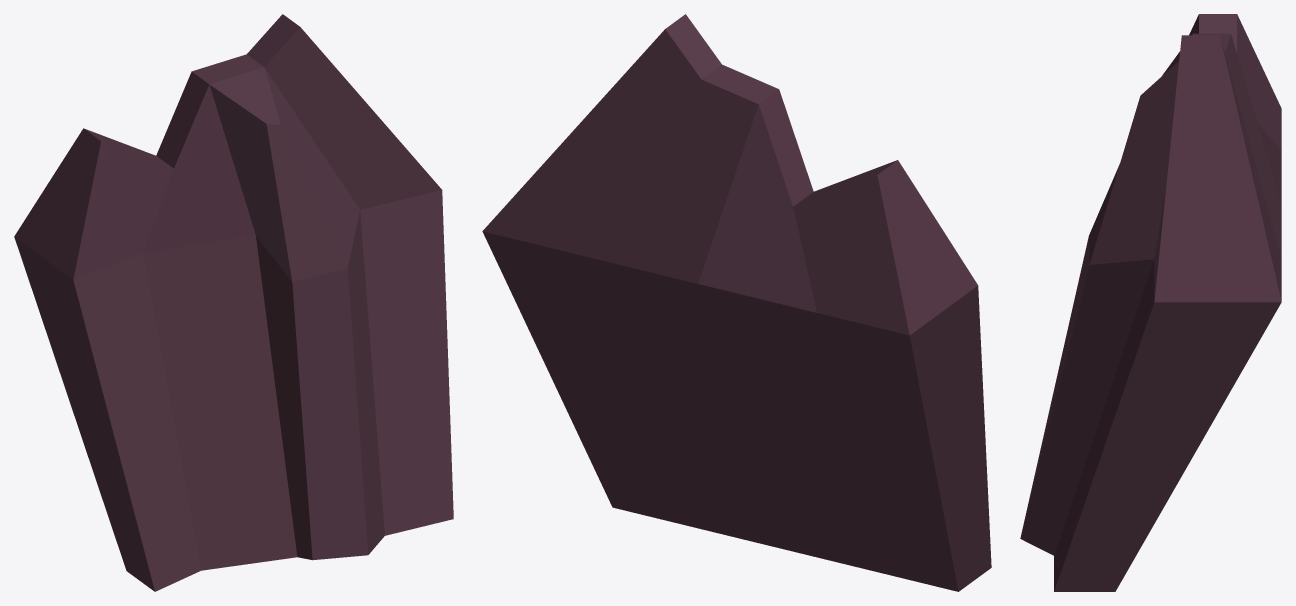
The model's file is shitrockback.fbx.
The picture shows the model from 3 angles, left to right: view 1: azimuth 30°, elevation 25°; view 2: azimuth 150°, elevation 25°; view 3: azimuth 270°, elevation 25°; orthographic projection. The views are drawn at different scales.
Parts seen in each view (by area): view 1: shitrockback; view 2: shitrockback; view 3: shitrockback.
Part boxes in pixels (x1=…): shitrockback: x1=14, y1=14, x2=453, y2=591; shitrockback: x1=482, y1=14, x2=991, y2=591; shitrockback: x1=1020, y1=14, x2=1281, y2=591.
Size of the model in its own units: 3350 by 4092 by 1911.
